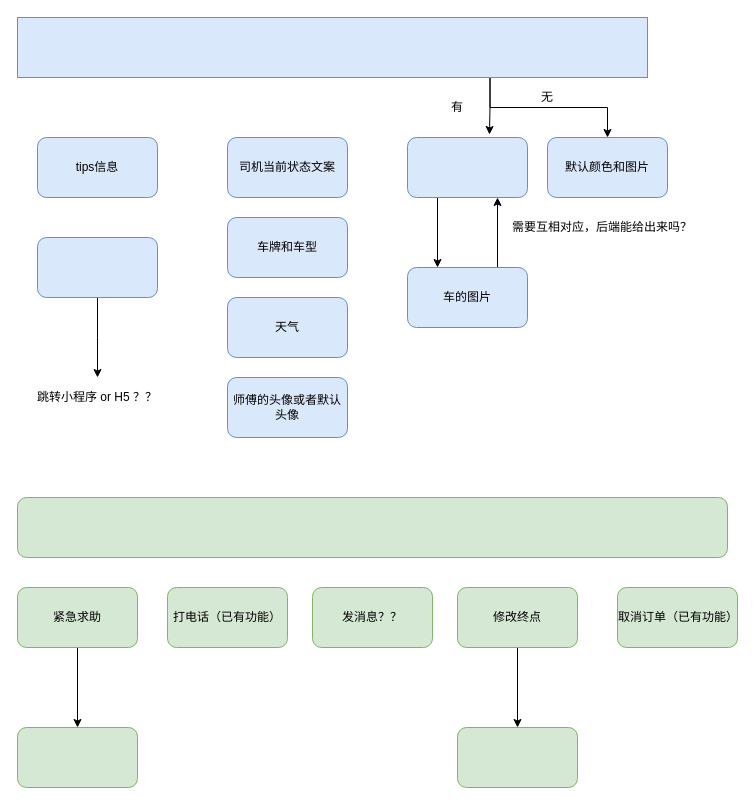
Some shapes in this 755 by 805 pixel diagram are drawn without their labels. Here are the shapes that lost their labels. From the top down, the centre of each, then its label:
pixel 332 47: 获取司机等相关信息
pixel 467 167: 车的颜色
pixel 97 267: Banner信息
pixel 372 527: ToolBar（动态的还是前端写死？）
pixel 77 757: 跳转到原来的报警页面
pixel 517 757: 跳转到本次冬菊开发的页面
